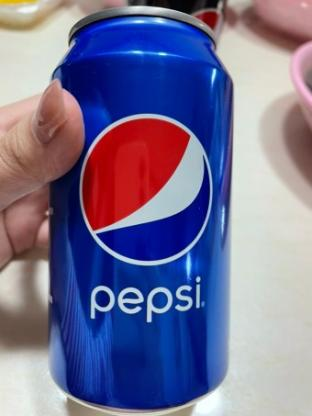Can: (47, 4, 237, 416)
